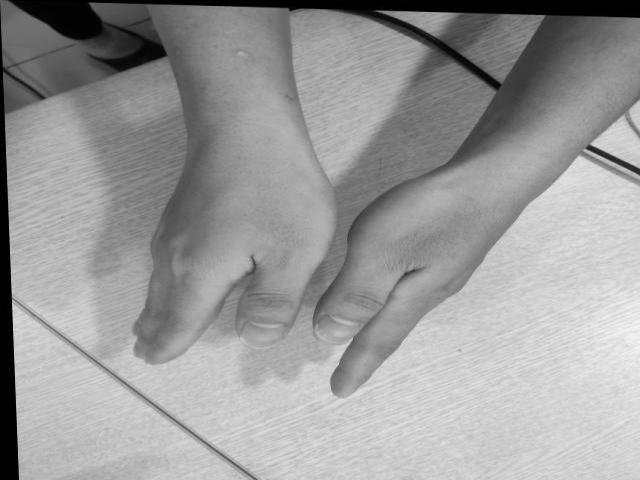not-gloved: (318, 156, 543, 394), (136, 125, 332, 366)
